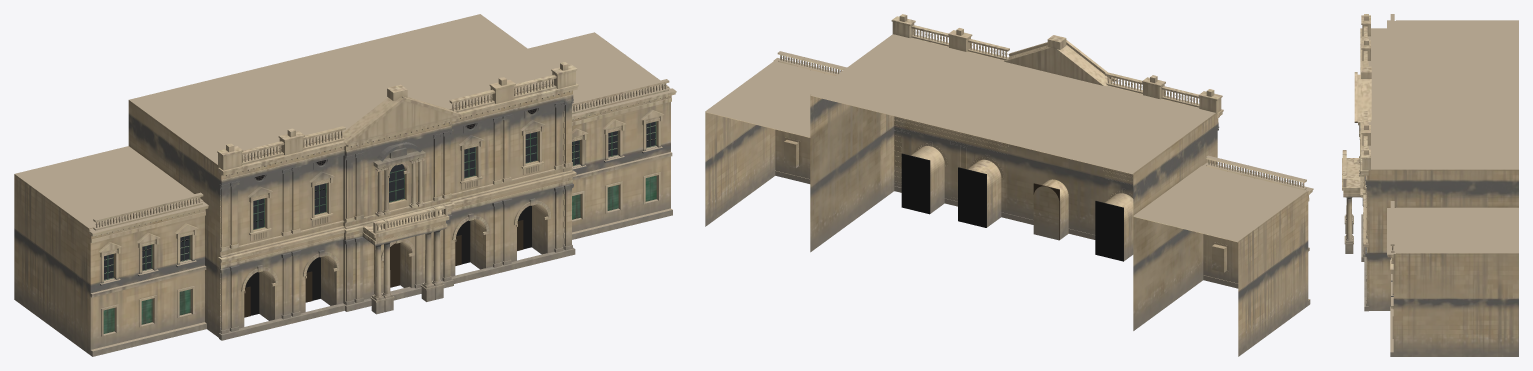
Rendered from library-Cm19JUXJ.glb.
The picture shows the model from 3 angles, left to right: view 1: azimuth 30°, elevation 25°; view 2: azimuth 150°, elevation 25°; view 3: azimuth 270°, elevation 25°; orthographic projection. The views are drawn at different scales.
Visible parts, largest first — view 1: palace, palace_roof, palace_flat; view 2: palace, palace_roof, palace_flat; view 3: palace_roof, palace.
Boxes of the visible parts, x1,y1,x2,y2 form: palace: [14, 62, 676, 356]; palace_roof: [15, 14, 675, 351]; palace_flat: [104, 108, 655, 317]; palace: [705, 14, 1313, 356]; palace_roof: [705, 34, 1313, 300]; palace_flat: [901, 153, 1123, 261]; palace_roof: [1368, 14, 1518, 352]; palace: [1342, 14, 1518, 356].
Bounding box in the file's own units: 66.4 × 22.6 × 21.15.
Materials: 6 (1 with a texture image).
